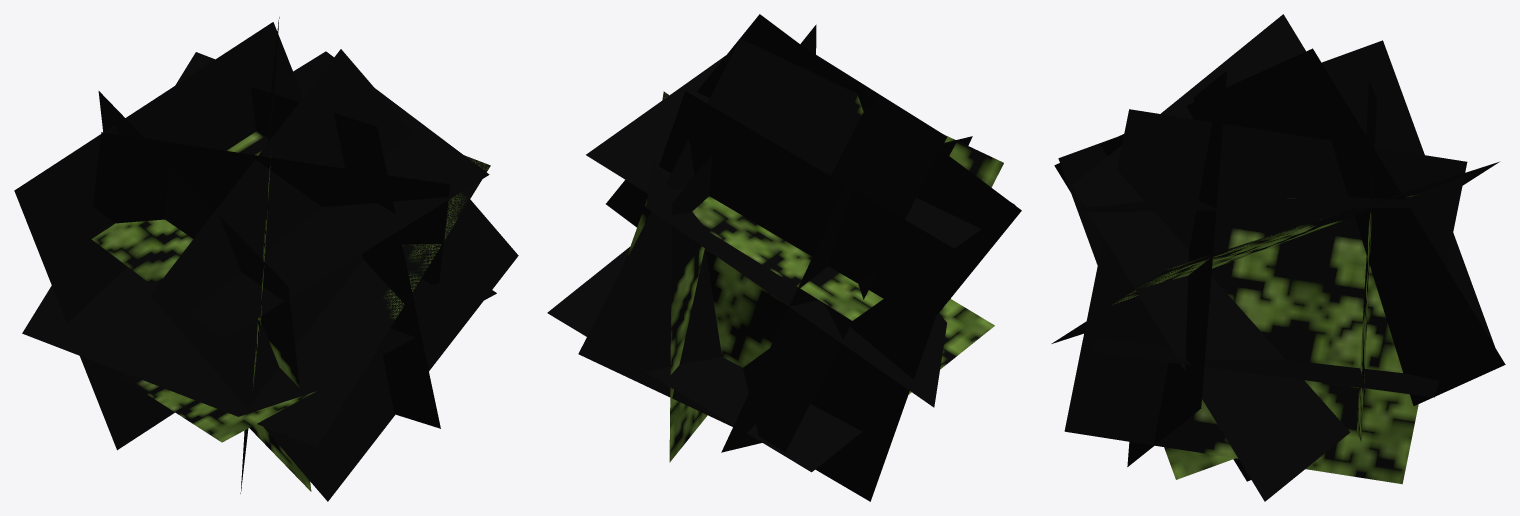
File: linden_leaves_5.obj
3 views of the same model, side by side, from view 1: azimuth 30°, elevation 25°; view 2: azimuth 150°, elevation 25°; view 3: azimuth 270°, elevation 25° (orthographic). The views are drawn at different scales.
Visible parts, largest first — view 1: bottom, east, west, top, north, south; view 2: top, south, west, east, north, bottom; view 3: west, south, east, bottom, north, top.
Boxes of the visible parts, x1,y1,x2,y2 form: bottom: (150, 49, 518, 501); east: (22, 52, 490, 491); west: (93, 87, 450, 428); top: (14, 22, 303, 450); north: (91, 51, 489, 338); south: (121, 17, 496, 493); top: (624, 91, 958, 501); south: (547, 38, 1003, 472); west: (669, 24, 947, 462); east: (646, 91, 972, 452); north: (586, 55, 1015, 320); bottom: (606, 14, 1021, 314); west: (1064, 14, 1467, 501); south: (1054, 48, 1505, 481); east: (1051, 40, 1499, 479); bottom: (1127, 71, 1227, 466); north: (1081, 195, 1426, 212); top: (1356, 80, 1377, 441).
Bounding box in the file's own units: 2.27 × 2.25 × 1.98.
